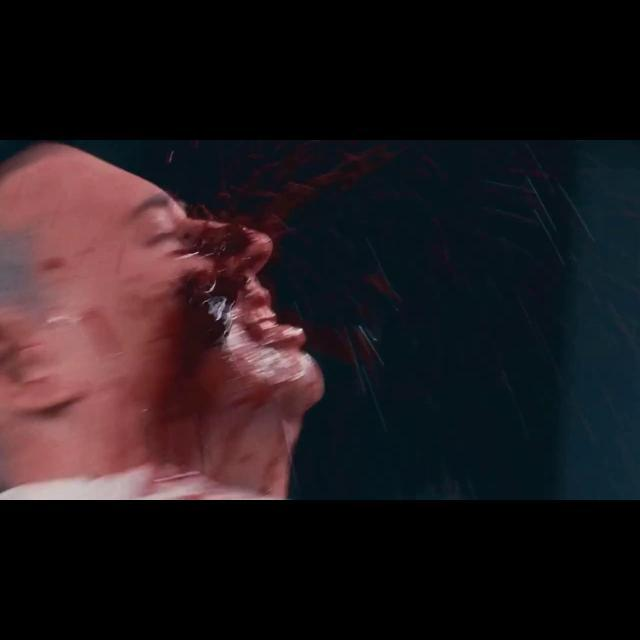blood: (82, 140, 427, 500), (364, 237, 404, 310), (306, 147, 374, 170), (36, 256, 70, 279), (294, 140, 302, 167)
